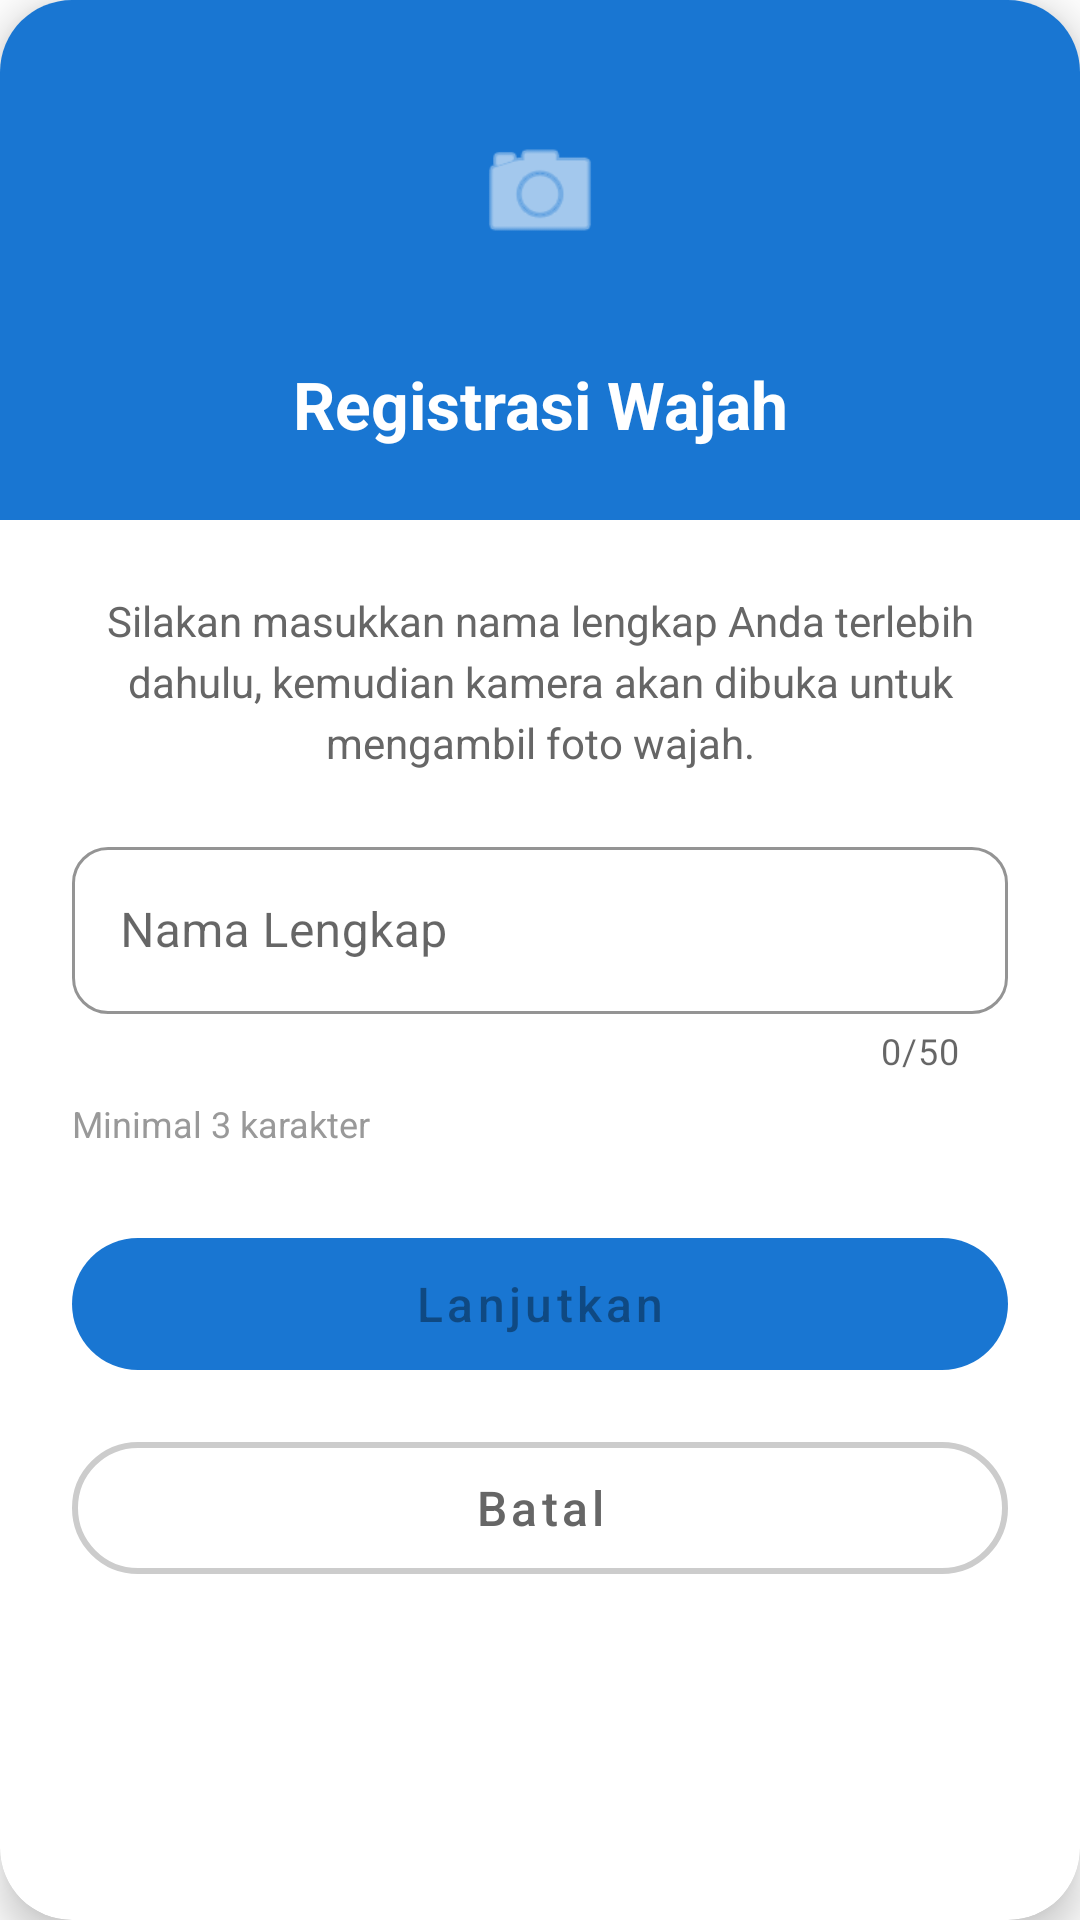

Where to tap for icons on this 1080 x 1920 app screen, as (x=x, y=y):
camera: (x=540, y=190)
